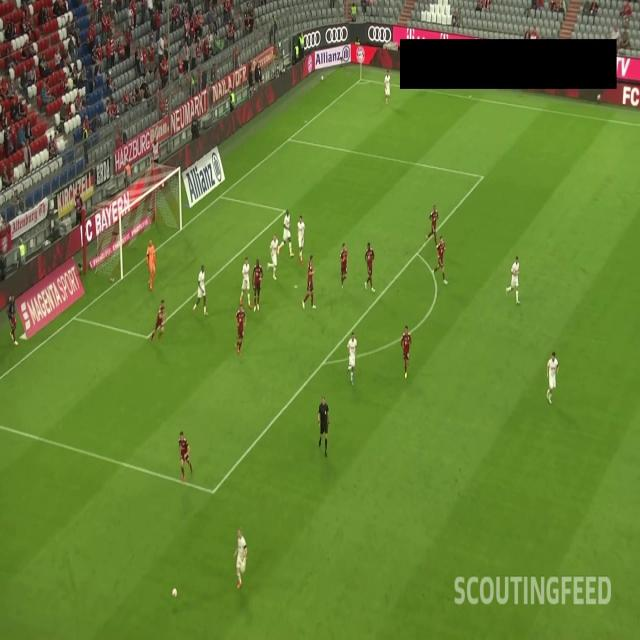ball: (168, 581, 180, 602)
player: (342, 331, 359, 390), (195, 259, 211, 320), (398, 323, 414, 379), (178, 431, 196, 478), (235, 530, 248, 591), (150, 292, 166, 340), (143, 239, 158, 290), (545, 342, 557, 404), (238, 255, 251, 312), (268, 234, 282, 284), (233, 306, 246, 356), (280, 206, 293, 256), (292, 212, 305, 262), (305, 255, 317, 308), (363, 242, 374, 298), (508, 249, 520, 299), (249, 258, 261, 306), (438, 238, 449, 286), (428, 203, 440, 246), (338, 242, 348, 288), (384, 69, 393, 104)
